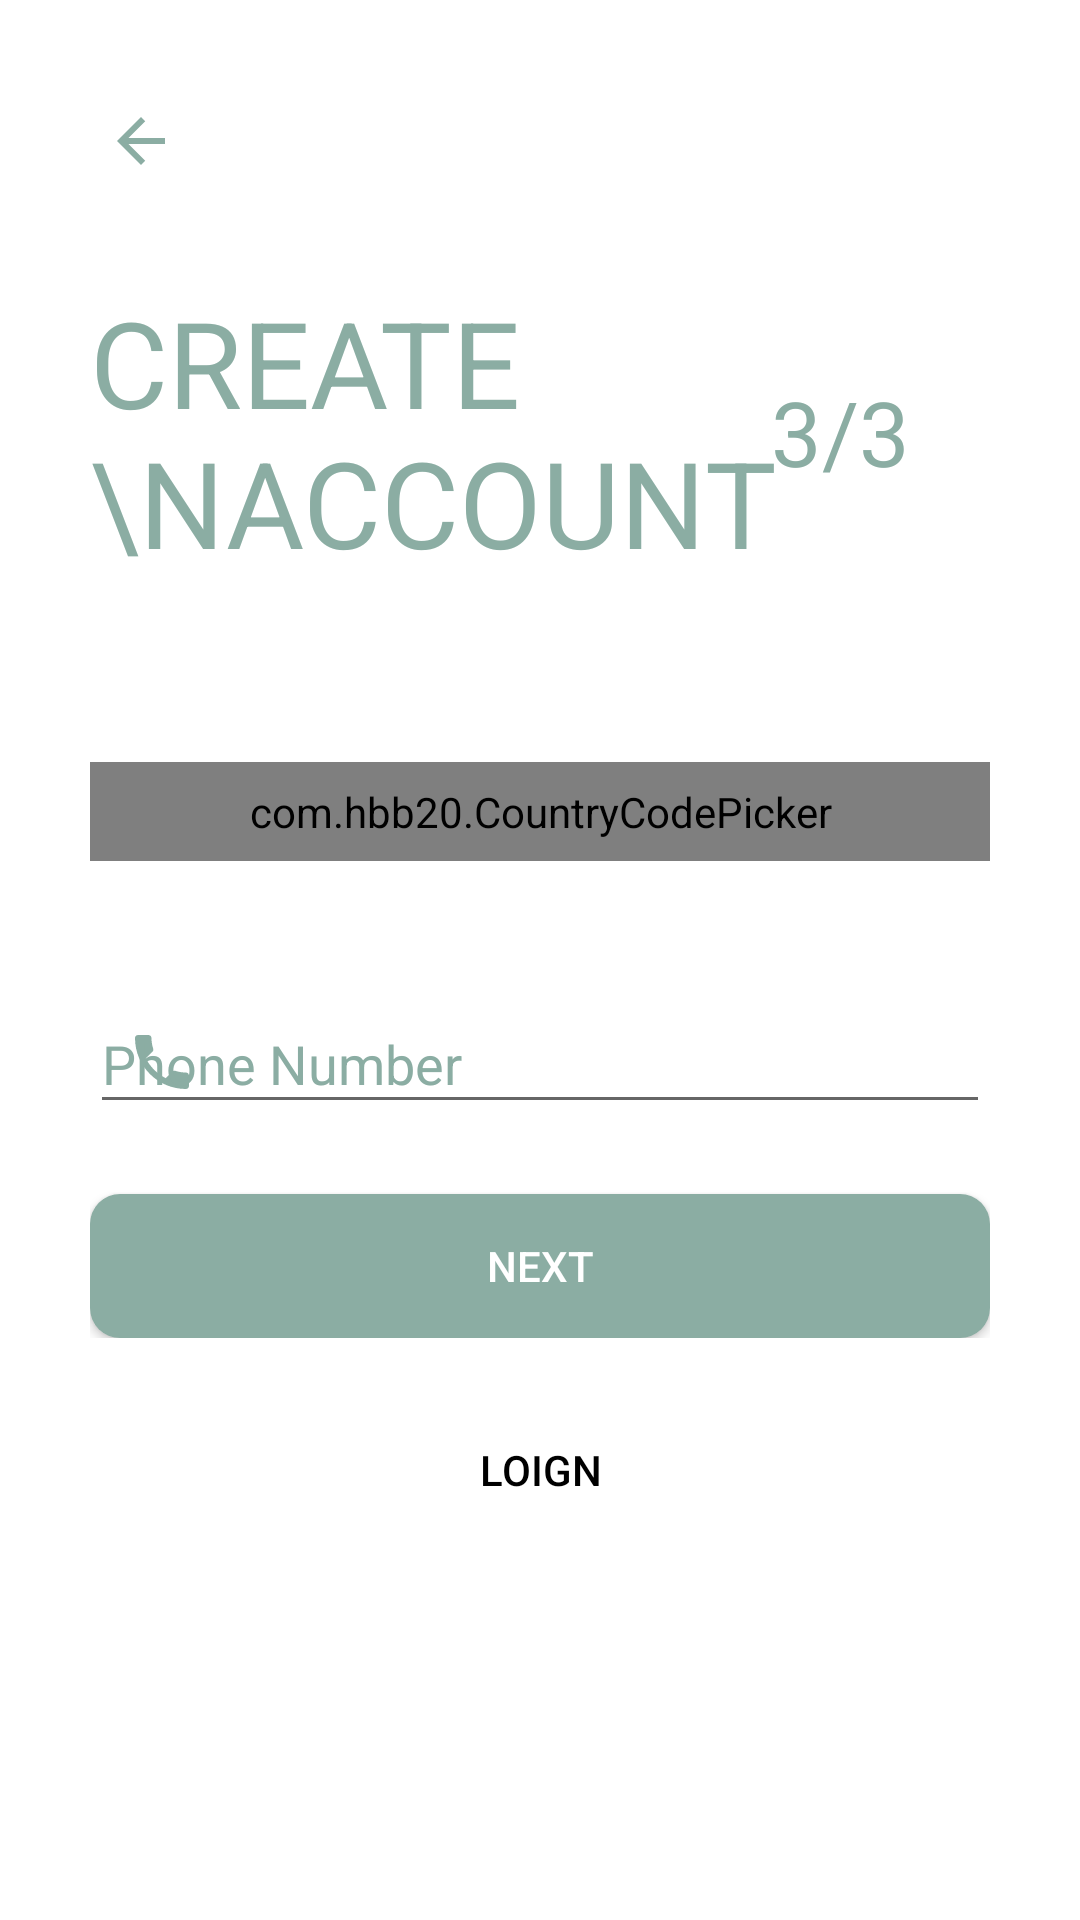

Point at icon controls on the screen. Image size 1080px×1920px, points as point (x, y).
arrow back: point (141, 141)
